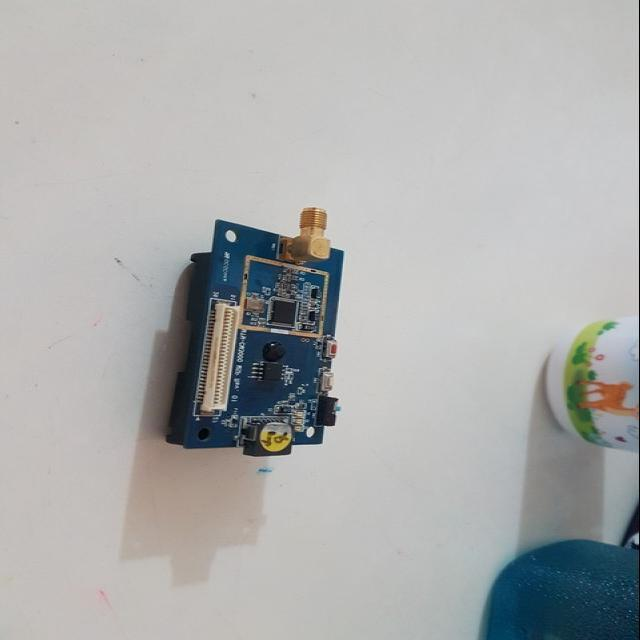TelosB: (167, 209, 344, 457)
